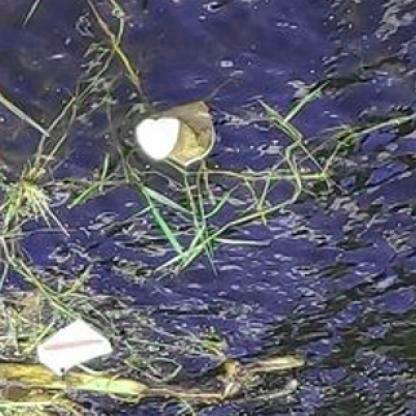Plastic: (137, 106, 218, 171)
Trash: (37, 316, 113, 379)
